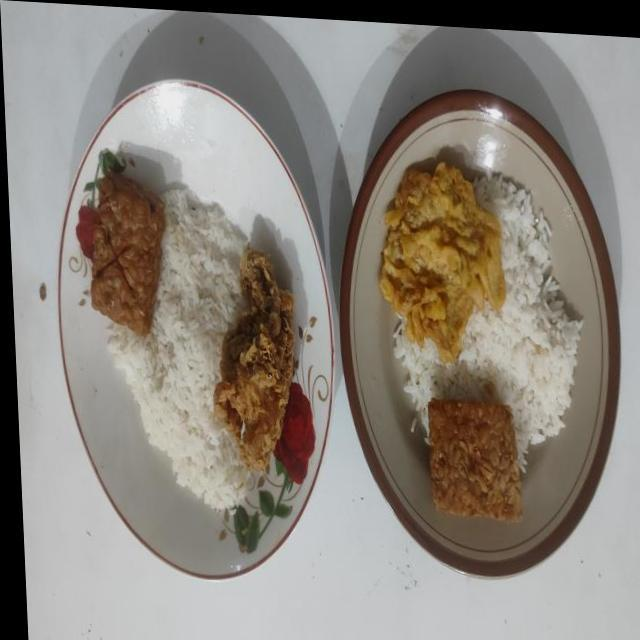nasi_putih: (393, 174, 582, 472), (108, 189, 250, 512)
tempe_goreng: (91, 171, 166, 336), (428, 398, 522, 522)
